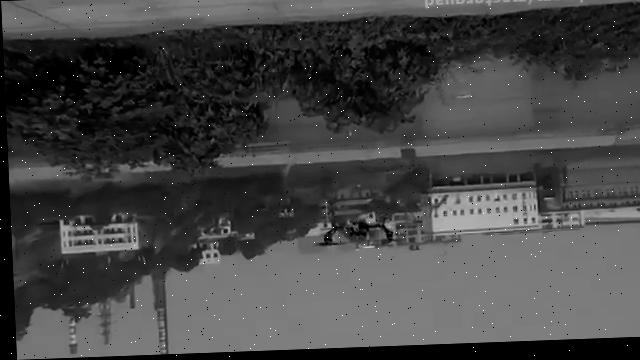drone: (306, 215, 403, 255)
